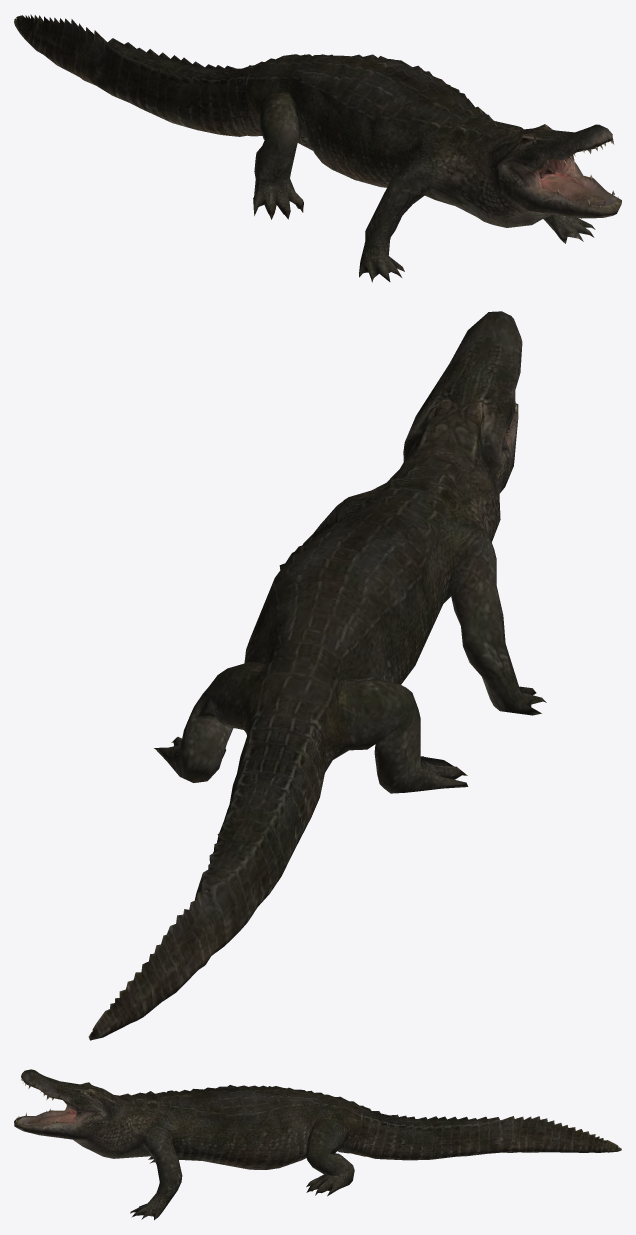
File: alligator.glb
3 renders of one model, top to bottom at view 1: azimuth 30°, elevation 25°; view 2: azimuth 150°, elevation 25°; view 3: azimuth 270°, elevation 25°, orthographic. The views are drawn at different scales.
Parts seen in each view (by area): view 1: American_Alligator_applied_clean_M_American_Alligator_0_M_Am; view 2: American_Alligator_applied_clean_M_American_Alligator_0_M_Am; view 3: American_Alligator_applied_clean_M_American_Alligator_0_M_Am.
Boxes of the visible parts, x1=… form: American_Alligator_applied_clean_M_American_Alligator_0_M_Am: x1=14, y1=14, x2=621, y2=282; American_Alligator_applied_clean_M_American_Alligator_0_M_Am: x1=88, y1=311, x2=546, y2=1040; American_Alligator_applied_clean_M_American_Alligator_0_M_Am: x1=14, y1=1069, x2=621, y2=1220.
Size of the model in its own units: 1.32 by 1 by 4.29.
1 material, 1 textured.
